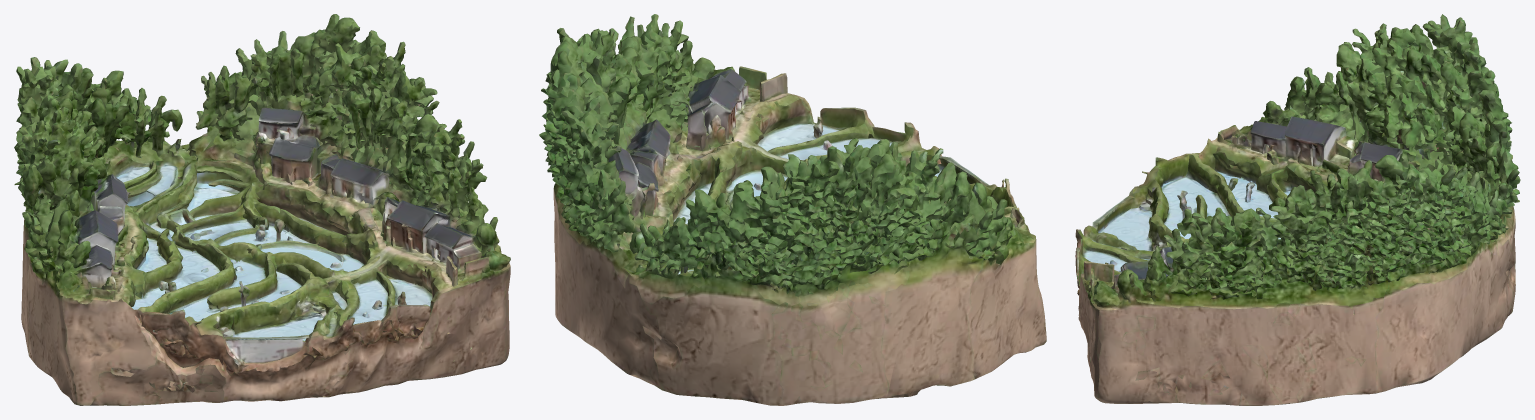
Rendered from qingtian.min.glb.
The picture shows the model from 3 angles, left to right: view 1: azimuth 30°, elevation 25°; view 2: azimuth 150°, elevation 25°; view 3: azimuth 270°, elevation 25°; orthographic projection. The views are drawn at different scales.
Parts seen in each view (by area): view 1: geometry_0; view 2: geometry_0; view 3: geometry_0.
Boxes of the visible parts, x1,y1,x2,y2 form: geometry_0: [14, 14, 510, 405]; geometry_0: [539, 14, 1046, 405]; geometry_0: [1075, 14, 1520, 405].
Size of the model in its own units: 0.35 by 0.2106 by 0.3494.
Materials: 1 (1 with a texture image).
